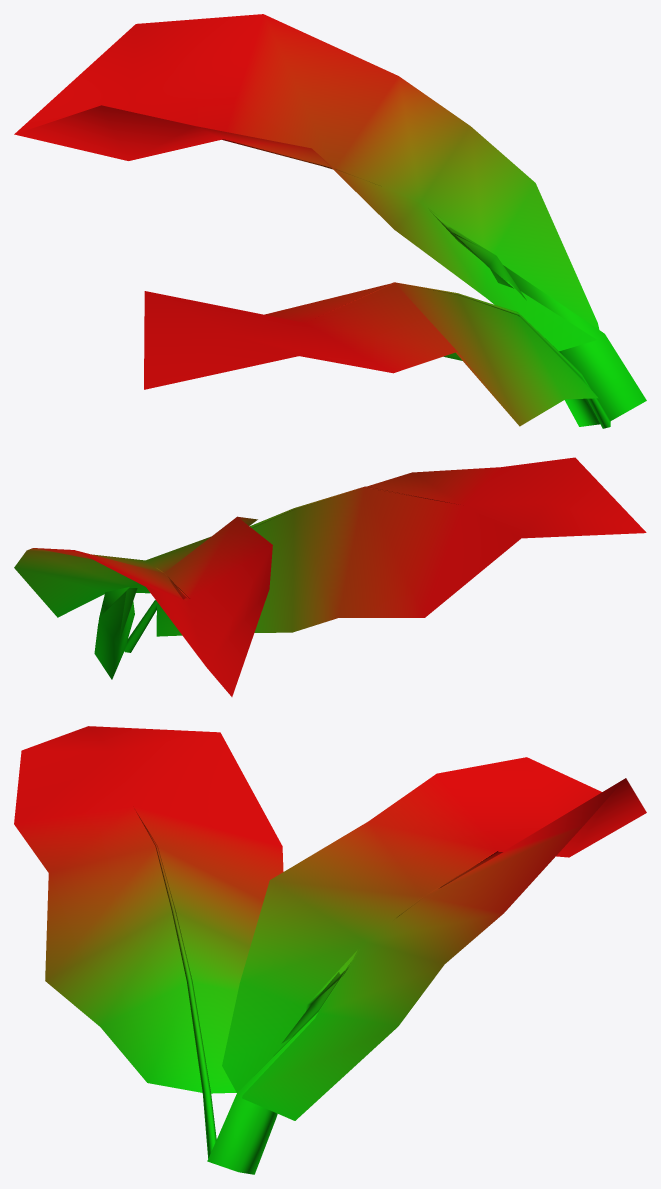
File: Lady Fern_LOD4_Var11_wdvlditia.fbx
3 views of the same model, one above another, from view 1: azimuth 30°, elevation 25°; view 2: azimuth 150°, elevation 25°; view 3: azimuth 270°, elevation 25° (orthographic). The views are drawn at different scales.
Parts seen in each view (by area): view 1: _mwam_Var11_LOD4; view 2: _mwam_Var11_LOD4; view 3: _mwam_Var11_LOD4.
Part boxes in pixels (left/top/right/bottom): _mwam_Var11_LOD4: left=14, top=14, right=646, bottom=428; _mwam_Var11_LOD4: left=14, top=457, right=646, bottom=696; _mwam_Var11_LOD4: left=14, top=726, right=646, bottom=1174.
Size of the model in its own units: 41.4 by 21.93 by 43.49.
